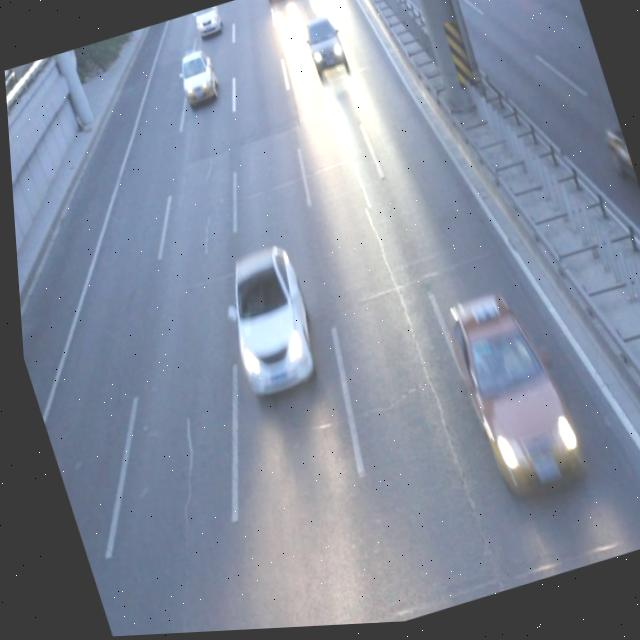car: (432, 284, 582, 507), (205, 242, 323, 404), (298, 17, 348, 81), (170, 48, 219, 109), (191, 8, 223, 38), (264, 0, 289, 3)
